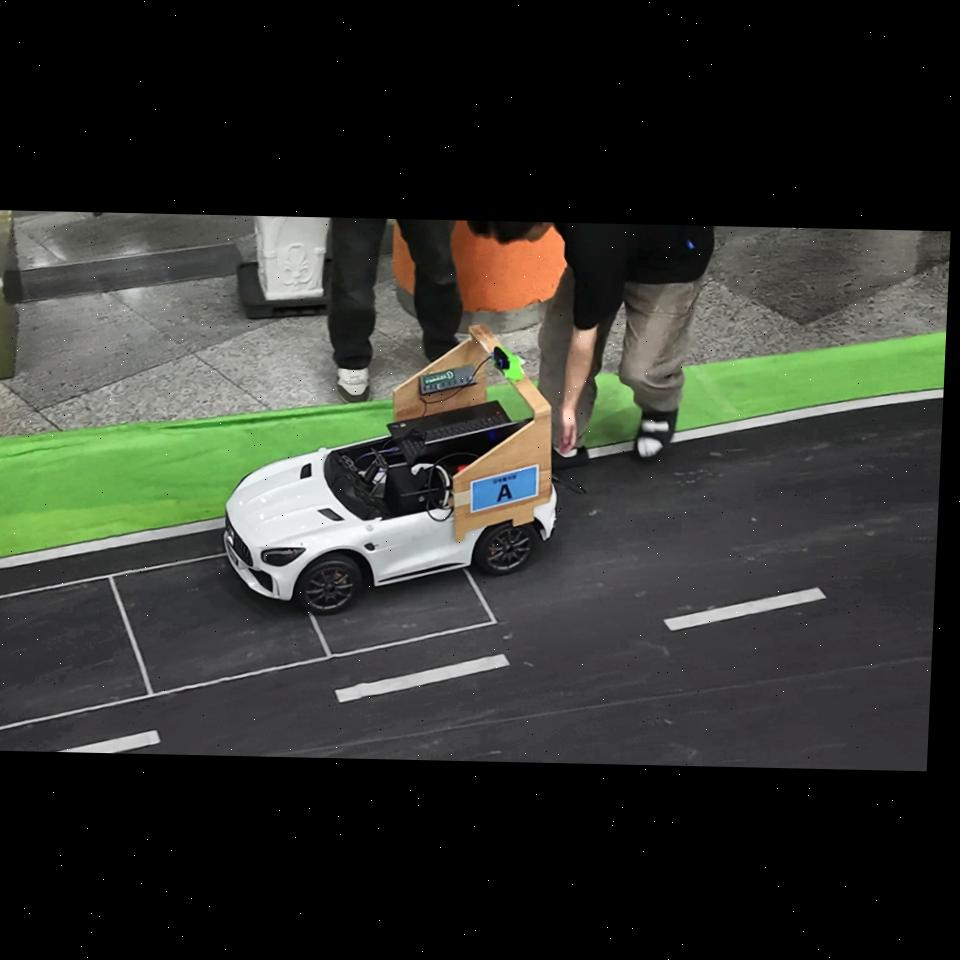broken_line: (335, 654, 510, 702), (663, 588, 827, 631), (58, 730, 161, 753)
